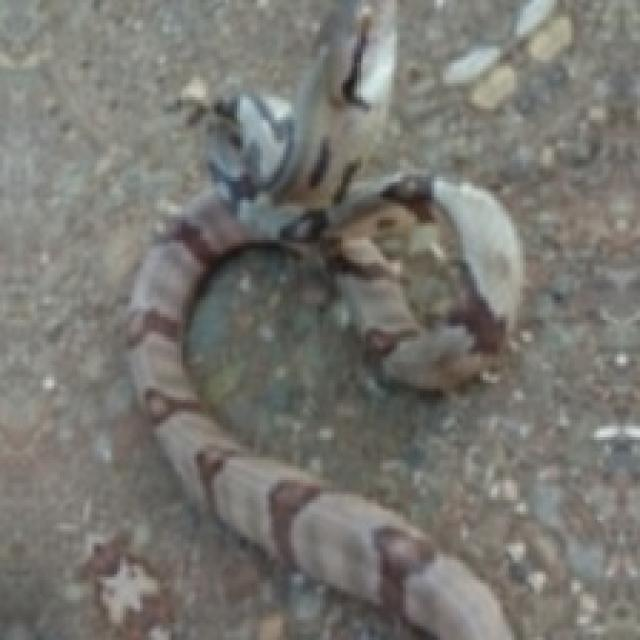dog-toothed cat snake: (126, 0, 523, 637)
